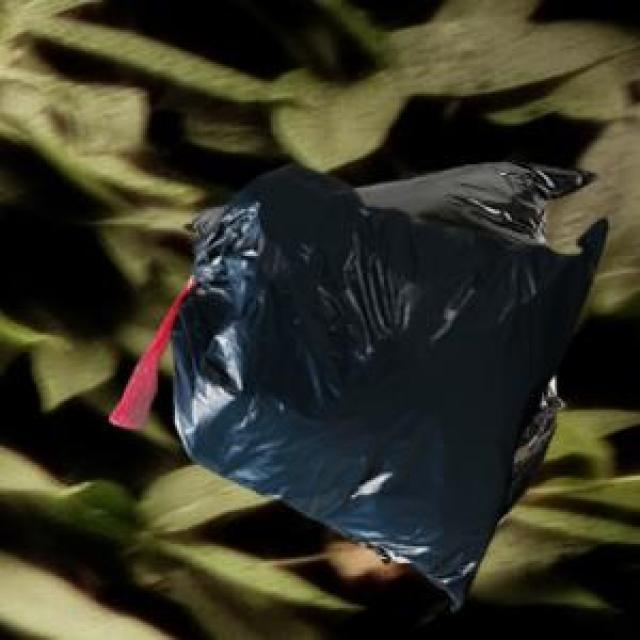waste: (109, 162, 608, 607)
